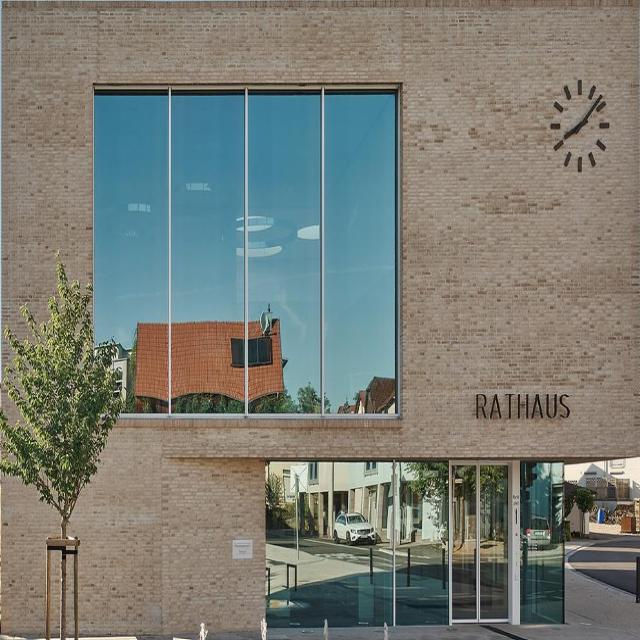door: (449, 460, 512, 622)
plant: (0, 261, 133, 639)
wall: (0, 0, 639, 637)
windows: (94, 88, 398, 414), (266, 462, 448, 626), (520, 458, 570, 622)
